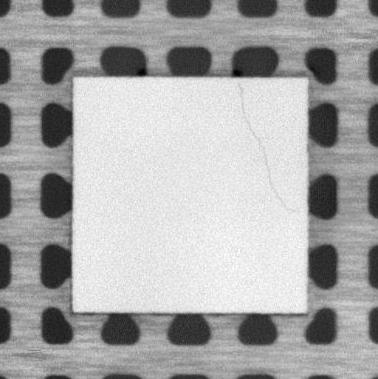DIE_CRACK: (238, 82, 297, 215)
